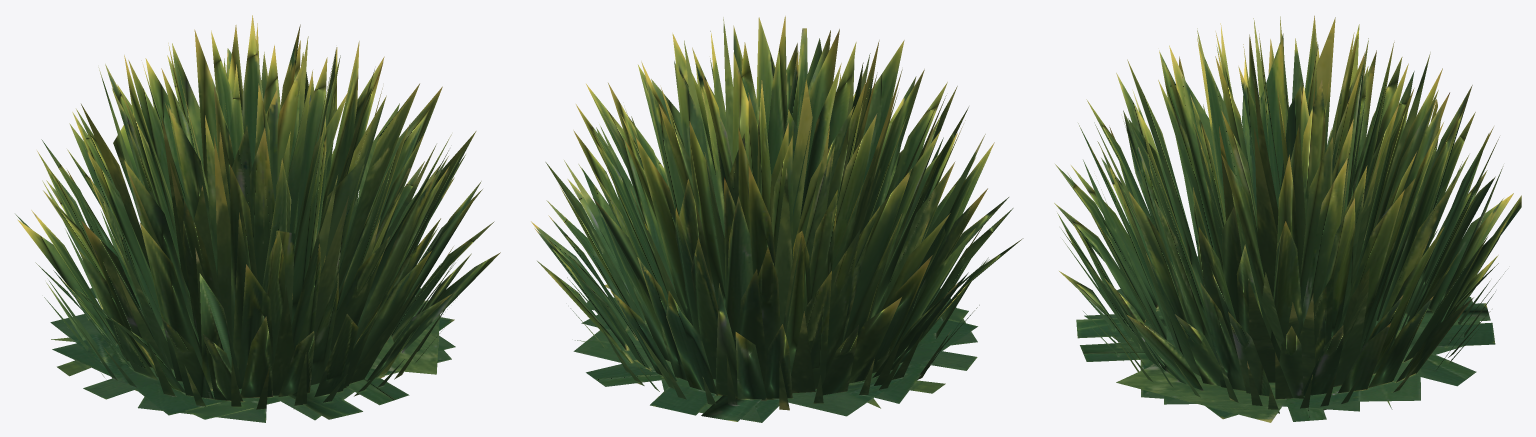
The model's file is grass-tuft.glb.
The picture shows the model from 3 angles, left to right: view 1: azimuth 30°, elevation 25°; view 2: azimuth 150°, elevation 25°; view 3: azimuth 270°, elevation 25°; orthographic projection.
Bounding box in the file's own units: 0.9999 × 0.7078 × 1.
1 material, 1 textured.
